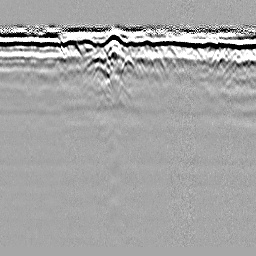cavity: (121, 52, 135, 73)
